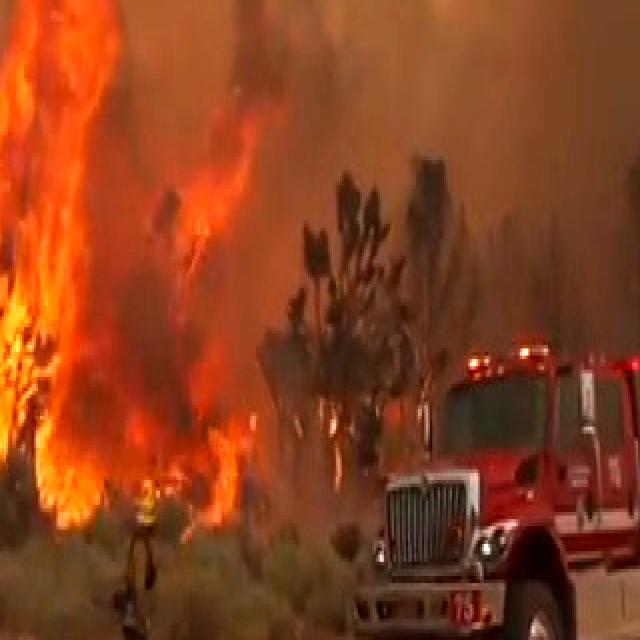fire: (48, 183, 236, 532), (0, 0, 54, 480)
smoke: (182, 0, 640, 92)
